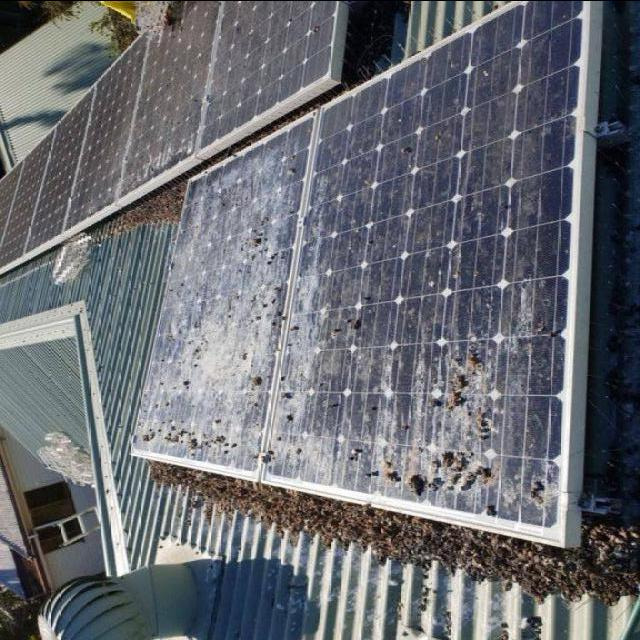soiled: (142, 58, 588, 540), (26, 2, 346, 242)
